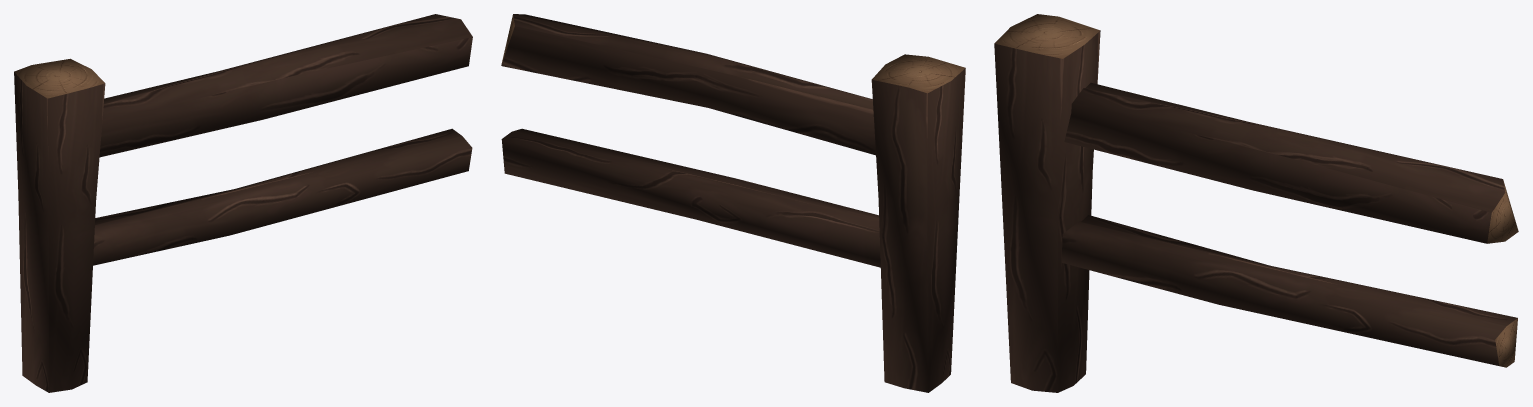
Rendered from Fence.fbx.
The picture shows the model from 3 angles, left to right: view 1: azimuth 30°, elevation 25°; view 2: azimuth 150°, elevation 25°; view 3: azimuth 330°, elevation 25°; orthographic projection. The views are drawn at different scales.
Parts seen in each view (by area): view 1: Cube; view 2: Cube; view 3: Cube.
Part boxes in pixels (x1,y1,x2,y2): Cube: (14, 14, 472, 392); Cube: (501, 14, 965, 392); Cube: (994, 14, 1518, 392).
Bounding box in the file's own units: 0.7574 × 0.5052 × 0.112.
